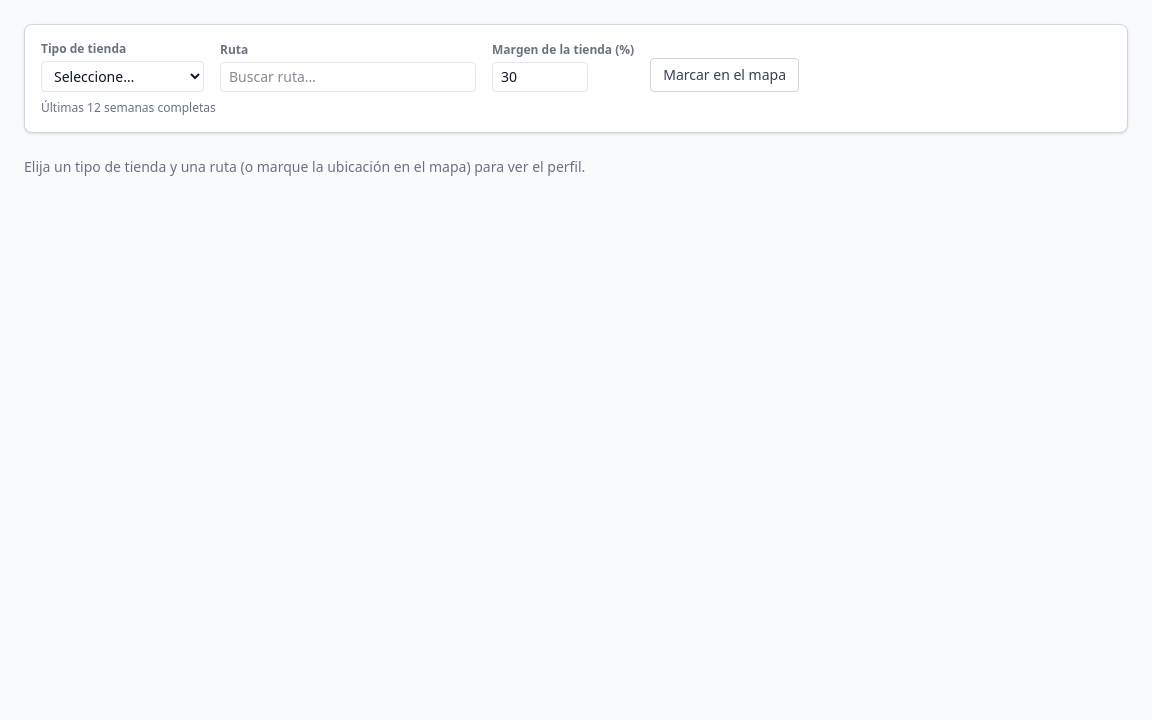
TabProspecto › renders the headline from the API and the 12-week note
Select "Supermercado (12)" in the dropdown labelled "Tipo de tienda" at (122, 76), box [41,61,204,92]
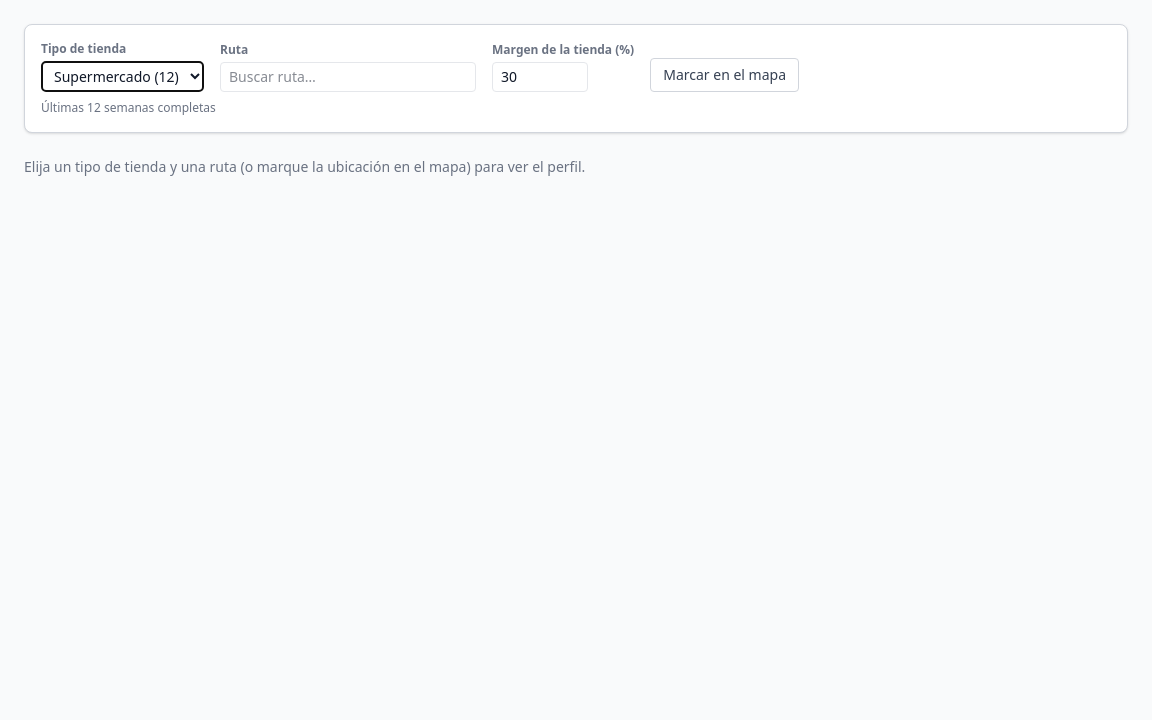
Click the field labelled "ruta" at (348, 77), box [220,62,476,92]
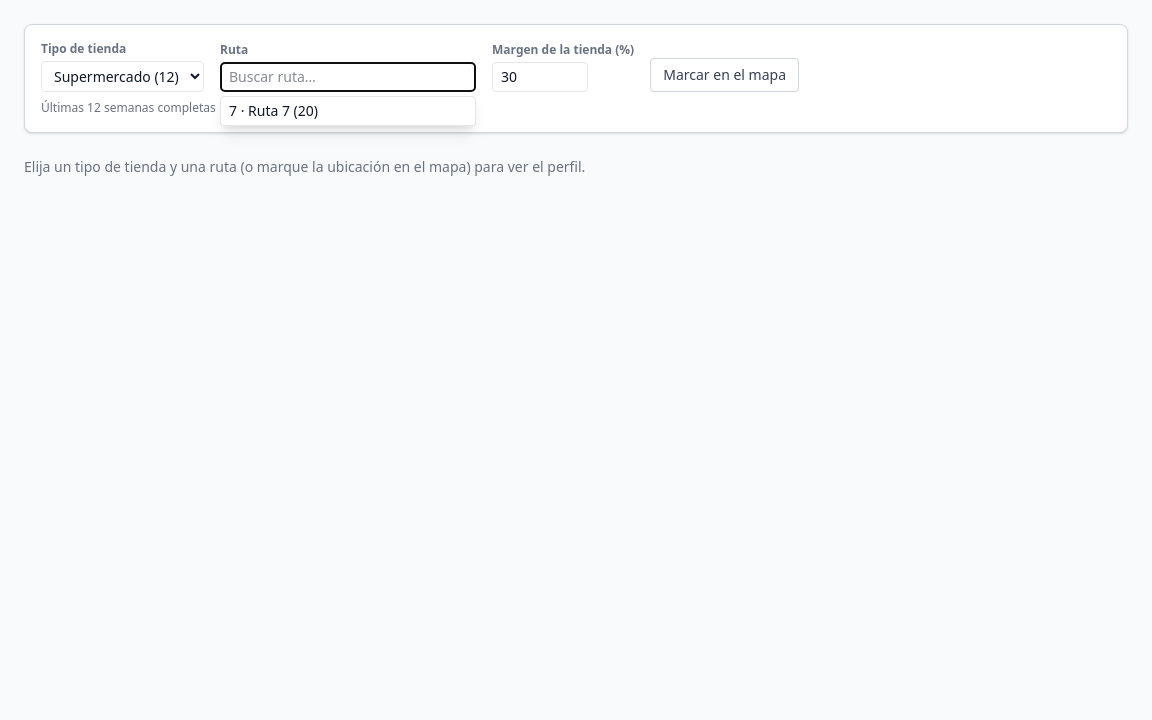
Click the button "7 · Ruta 7 (20)" at (348, 111), box [221,97,475,125]
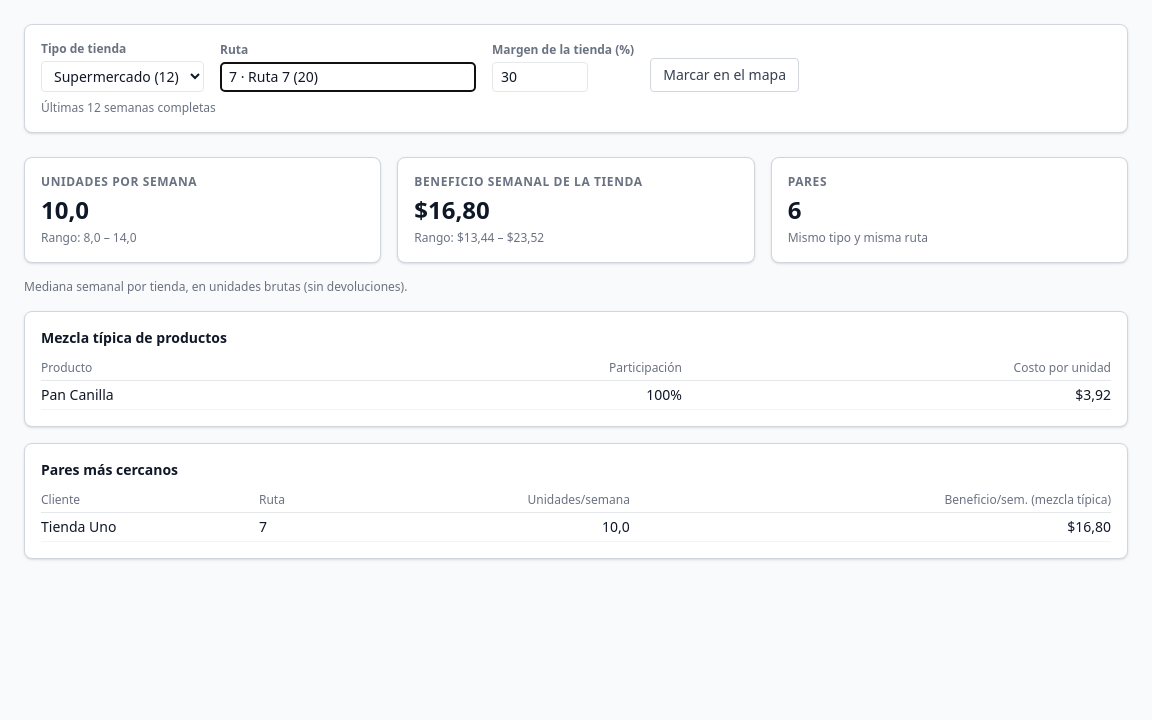
Result: the text "$16,80" is shown at [414,193,490,226]
Result: the text "10,0" is shown at [41,193,89,226]
Result: the text "Tienda Uno" is shown at [41,512,259,542]
